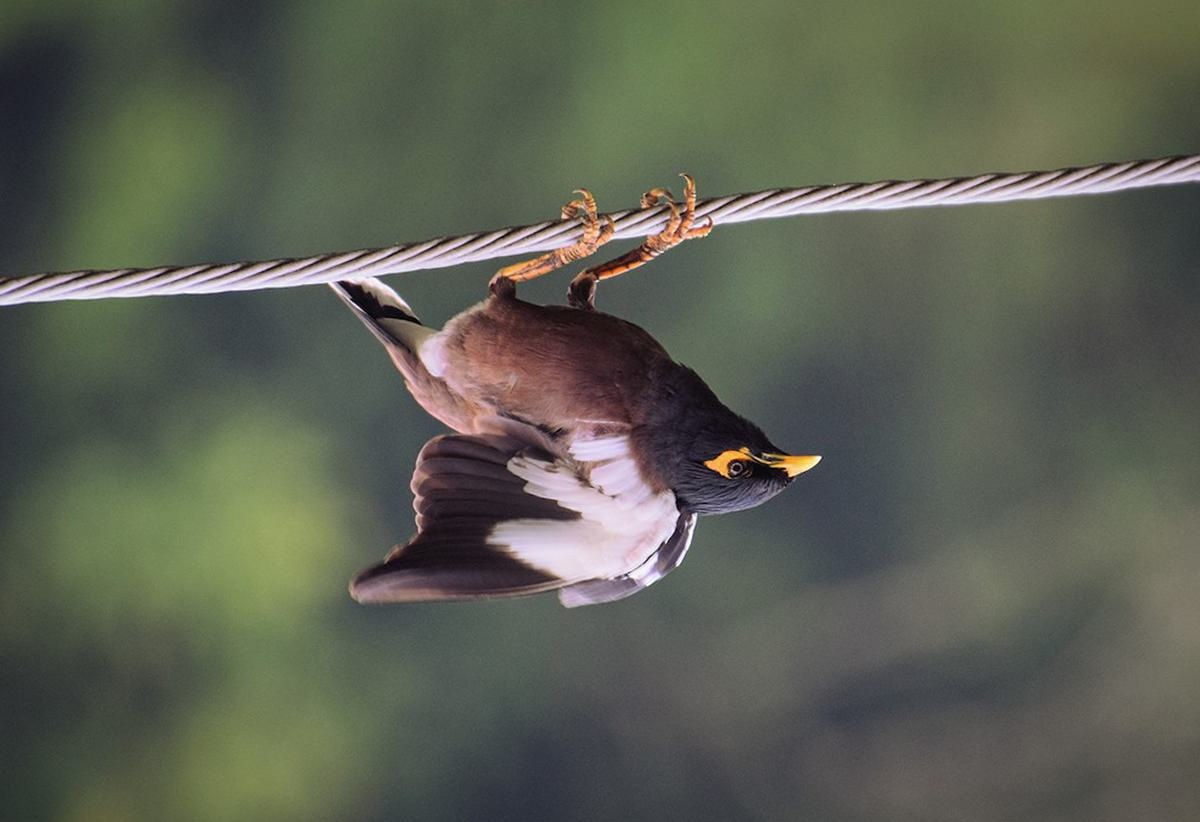myna: (399, 224, 825, 607)
